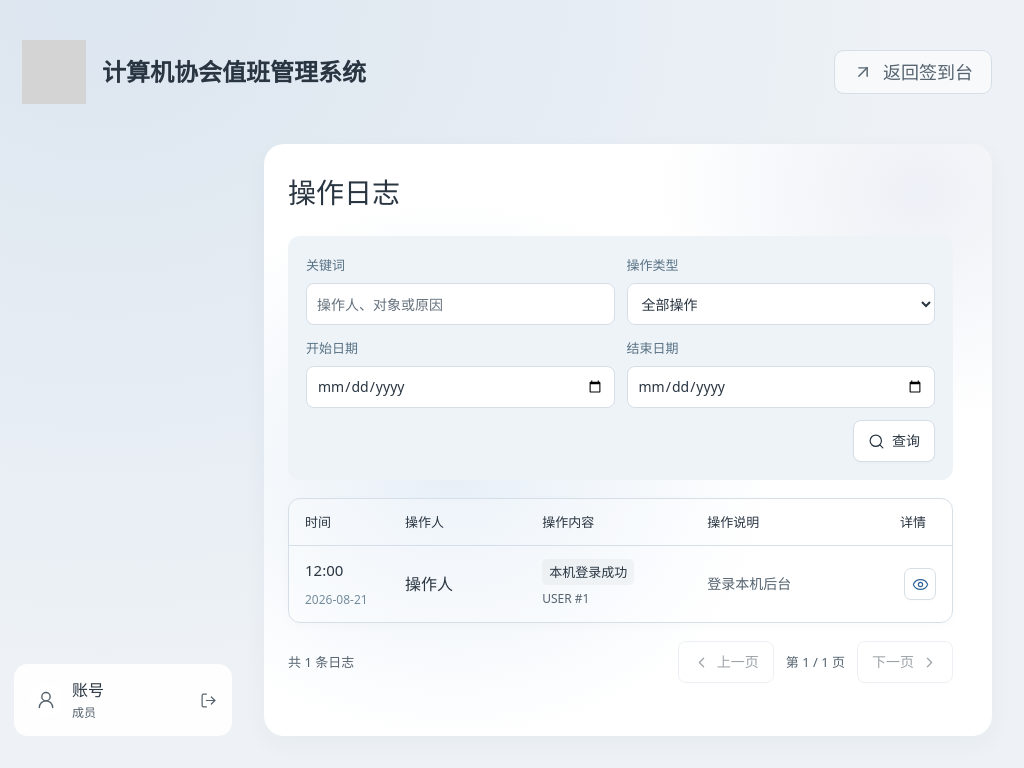
Scenario: LogsPage request states › shows event time without an oversized comparison empty state
Click the button with class "icon-button".
click(920, 584)  # box x1=904 y1=568 x2=936 y2=600
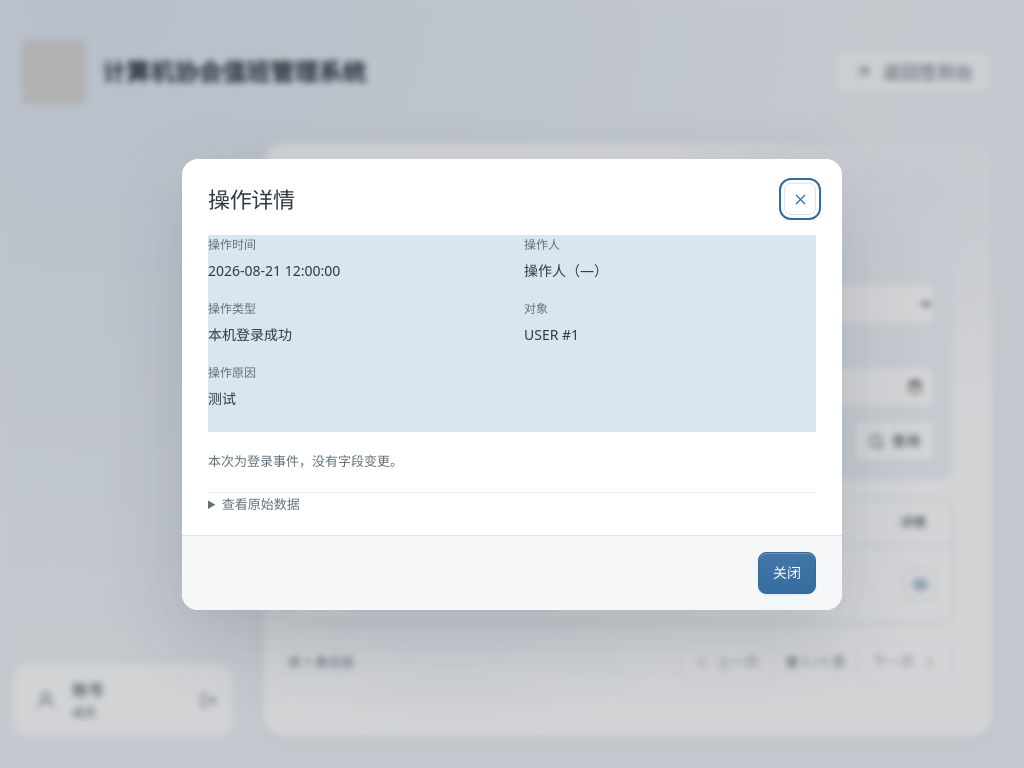
Check: the element with class "audit-detail-surface" shows "2026-08-21 12:00:00", box x1=208 y1=260 x2=340 y2=280
Check: the text with class "audit-event-note" shows "登录事件", box x1=208 y1=452 x2=403 y2=470
Check: the element with class "audit-raw-details" is shown, box x1=208 y1=492 x2=816 y2=514
